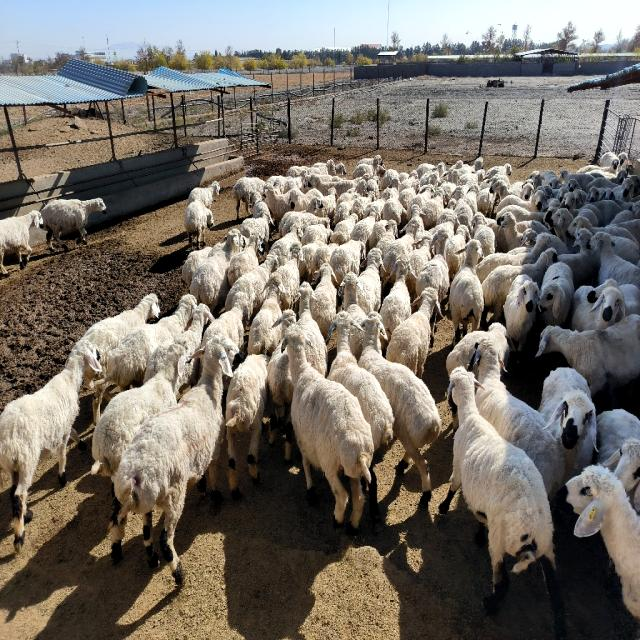sheep: (439, 367, 566, 638), (110, 337, 231, 584), (0, 340, 100, 552), (281, 325, 374, 528), (359, 312, 441, 506), (475, 340, 565, 498), (555, 465, 640, 622), (91, 345, 185, 478), (102, 295, 196, 391), (329, 312, 394, 449), (537, 315, 640, 396), (539, 367, 596, 481), (82, 293, 159, 376), (226, 355, 268, 498), (481, 248, 558, 324), (386, 287, 440, 378), (596, 408, 640, 513), (190, 228, 244, 312), (476, 233, 559, 282), (449, 238, 484, 342), (568, 215, 640, 264), (226, 253, 279, 319), (41, 198, 106, 251), (446, 323, 510, 374), (248, 272, 285, 356), (268, 345, 294, 462), (588, 232, 640, 289), (0, 210, 44, 275), (298, 282, 328, 376), (504, 275, 540, 352), (380, 255, 415, 334), (202, 292, 249, 349), (569, 285, 624, 331), (558, 228, 600, 288), (381, 220, 419, 286), (416, 230, 449, 302), (538, 262, 574, 327), (174, 305, 214, 354), (310, 263, 336, 338), (588, 278, 640, 315), (228, 232, 262, 286), (276, 242, 302, 310), (406, 232, 432, 299), (330, 240, 365, 284), (184, 200, 214, 251), (358, 248, 381, 314), (232, 177, 265, 219), (270, 222, 302, 265), (339, 272, 366, 322), (181, 247, 212, 287), (498, 190, 545, 212), (144, 342, 169, 382), (496, 212, 522, 249), (188, 182, 220, 208), (376, 220, 398, 256), (179, 360, 200, 388), (276, 310, 296, 338), (490, 178, 511, 201), (370, 473, 379, 518), (351, 327, 362, 359), (430, 315, 435, 344)
